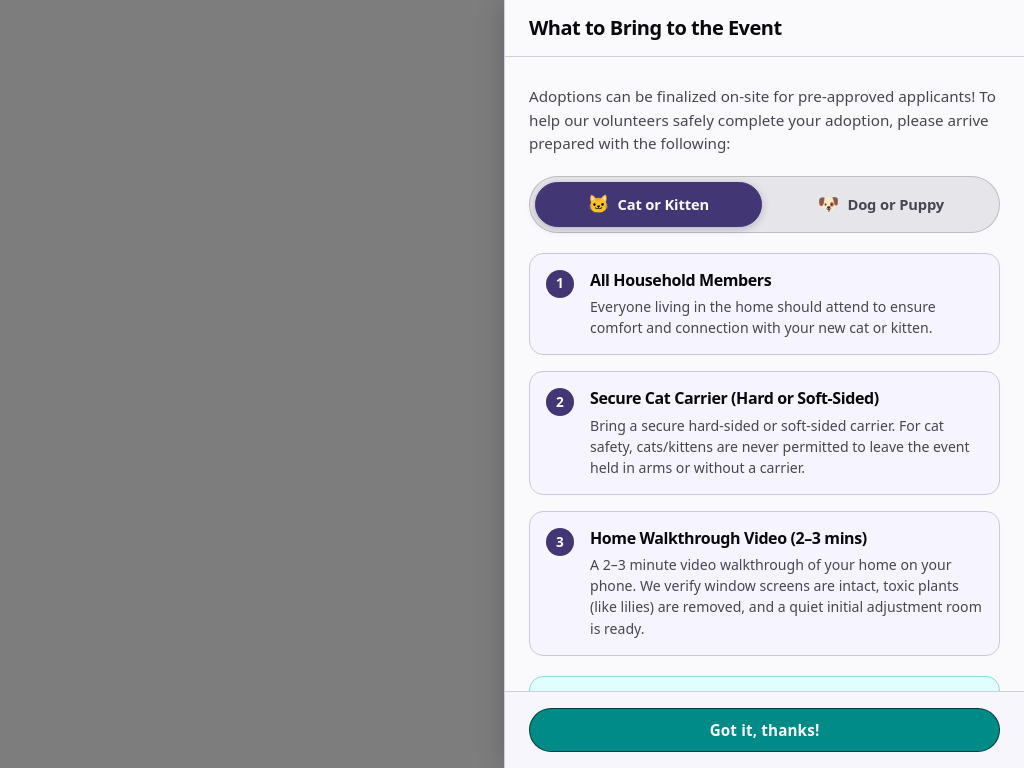
EventPrepDrawer.vue › renders cat checklist by default and toggles to dogs checklist
Click the tab with class "switch-btn" showing "🐶 Dog or Puppy" at (881, 204), box top-left (768, 182), bottom-right (994, 227)
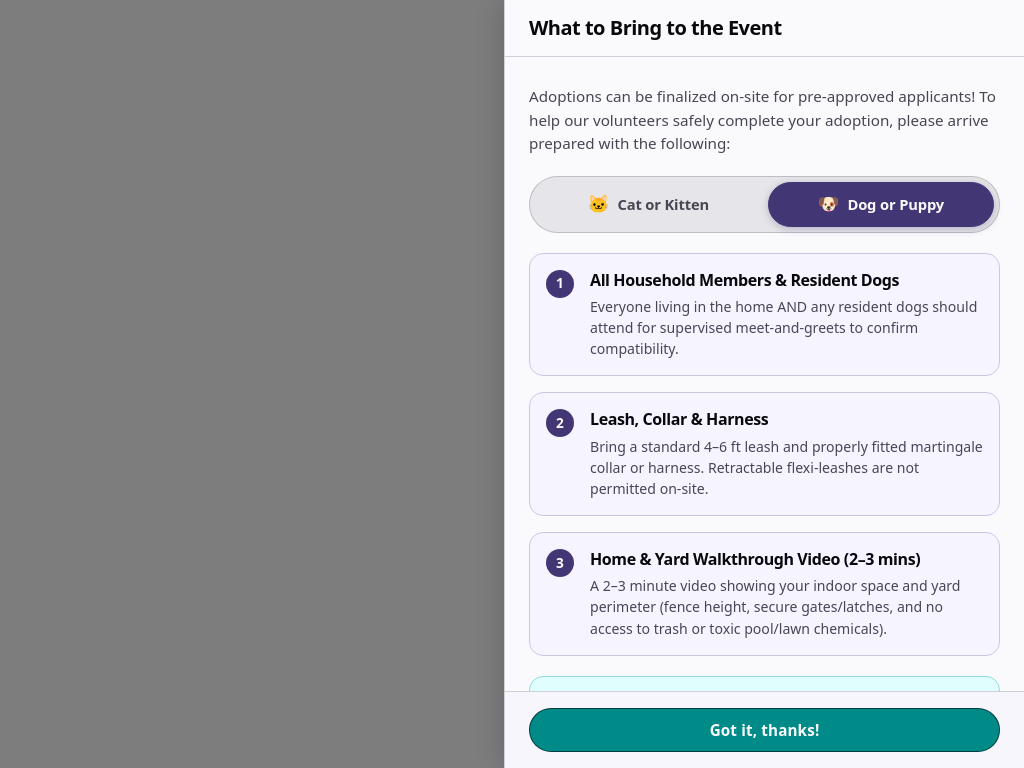
Expected: the text "Leash, Collar & Harness" is shown, top-left (590, 408), bottom-right (768, 430)
Expected: the text "Resident Dogs" is shown, top-left (590, 268), bottom-right (899, 290)
